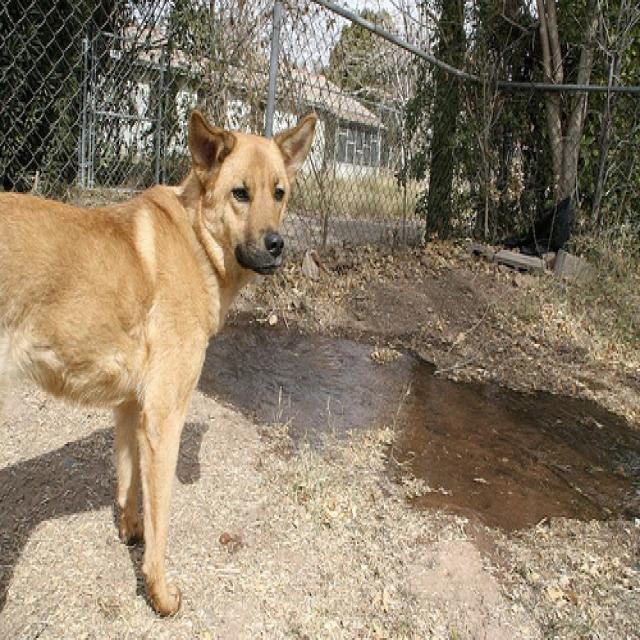dog: (1, 110, 318, 614)
